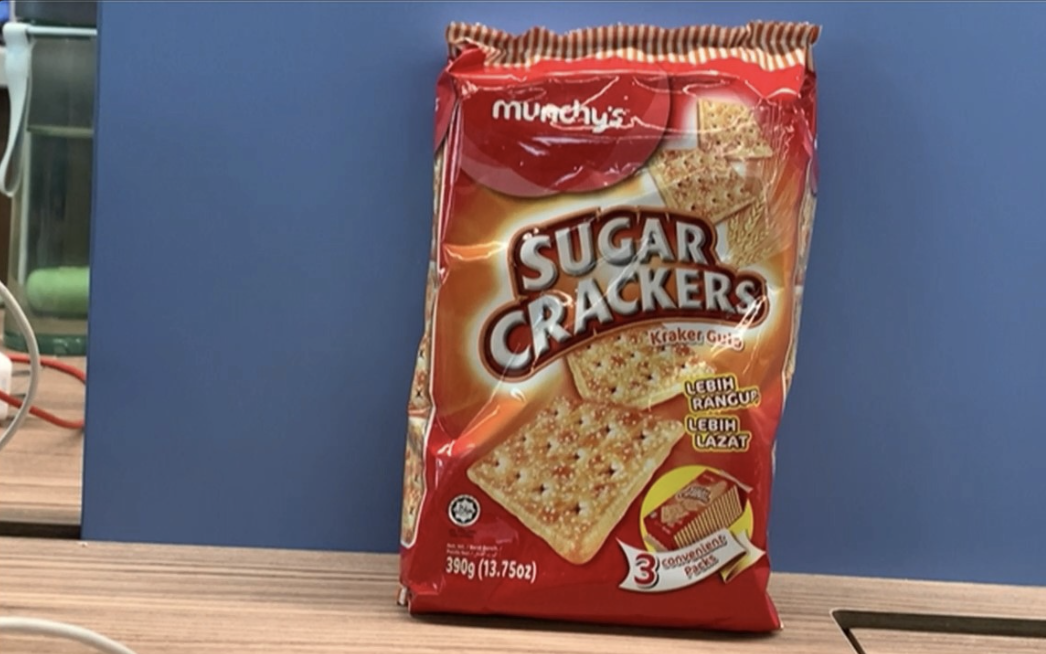crackers_300g-399g: (449, 82, 755, 589)
